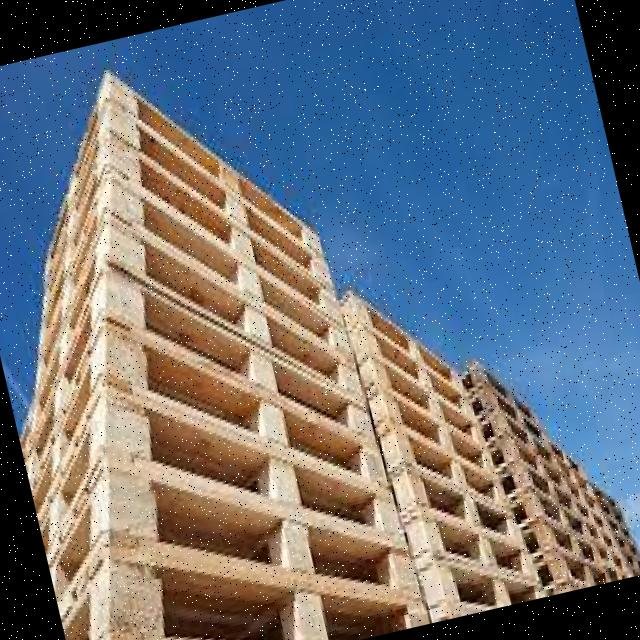Wooden-Pallets: (99, 254, 378, 440), (97, 164, 354, 364), (102, 378, 399, 537), (101, 65, 330, 263), (422, 511, 538, 584)
